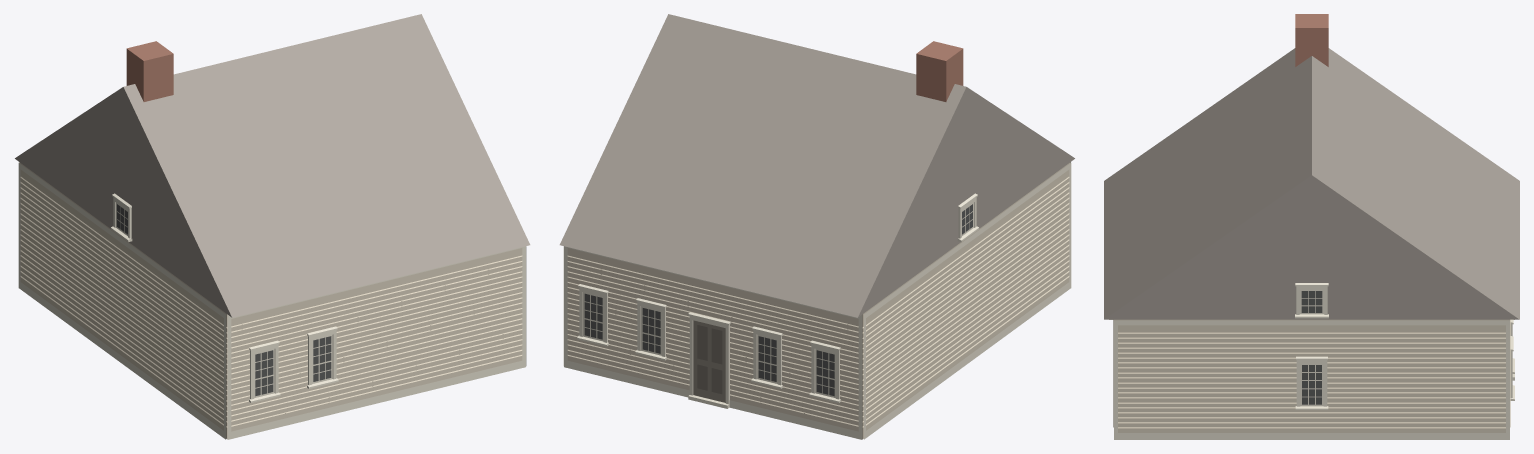
The model's file is recon_1835_blk_randolph_wells_h1_02__inferred_1835.glb.
3 renders of one model, left to right at view 1: azimuth 30°, elevation 25°; view 2: azimuth 150°, elevation 25°; view 3: azimuth 270°, elevation 25°, orthographic. The views are drawn at different scales.
Parts seen in each view (by area): view 1: recon_1835_blk_randolph_wells_h1_02__inferred_1835; view 2: recon_1835_blk_randolph_wells_h1_02__inferred_1835; view 3: recon_1835_blk_randolph_wells_h1_02__inferred_1835.
Boxes of the visible parts, x1=… form: recon_1835_blk_randolph_wells_h1_02__inferred_1835: x1=15, y1=14, x2=530, y2=439; recon_1835_blk_randolph_wells_h1_02__inferred_1835: x1=559, y1=14, x2=1074, y2=439; recon_1835_blk_randolph_wells_h1_02__inferred_1835: x1=1104, y1=14, x2=1519, y2=439.
Bounding box in the file's own units: 8.58 × 8.19 × 10.57.
